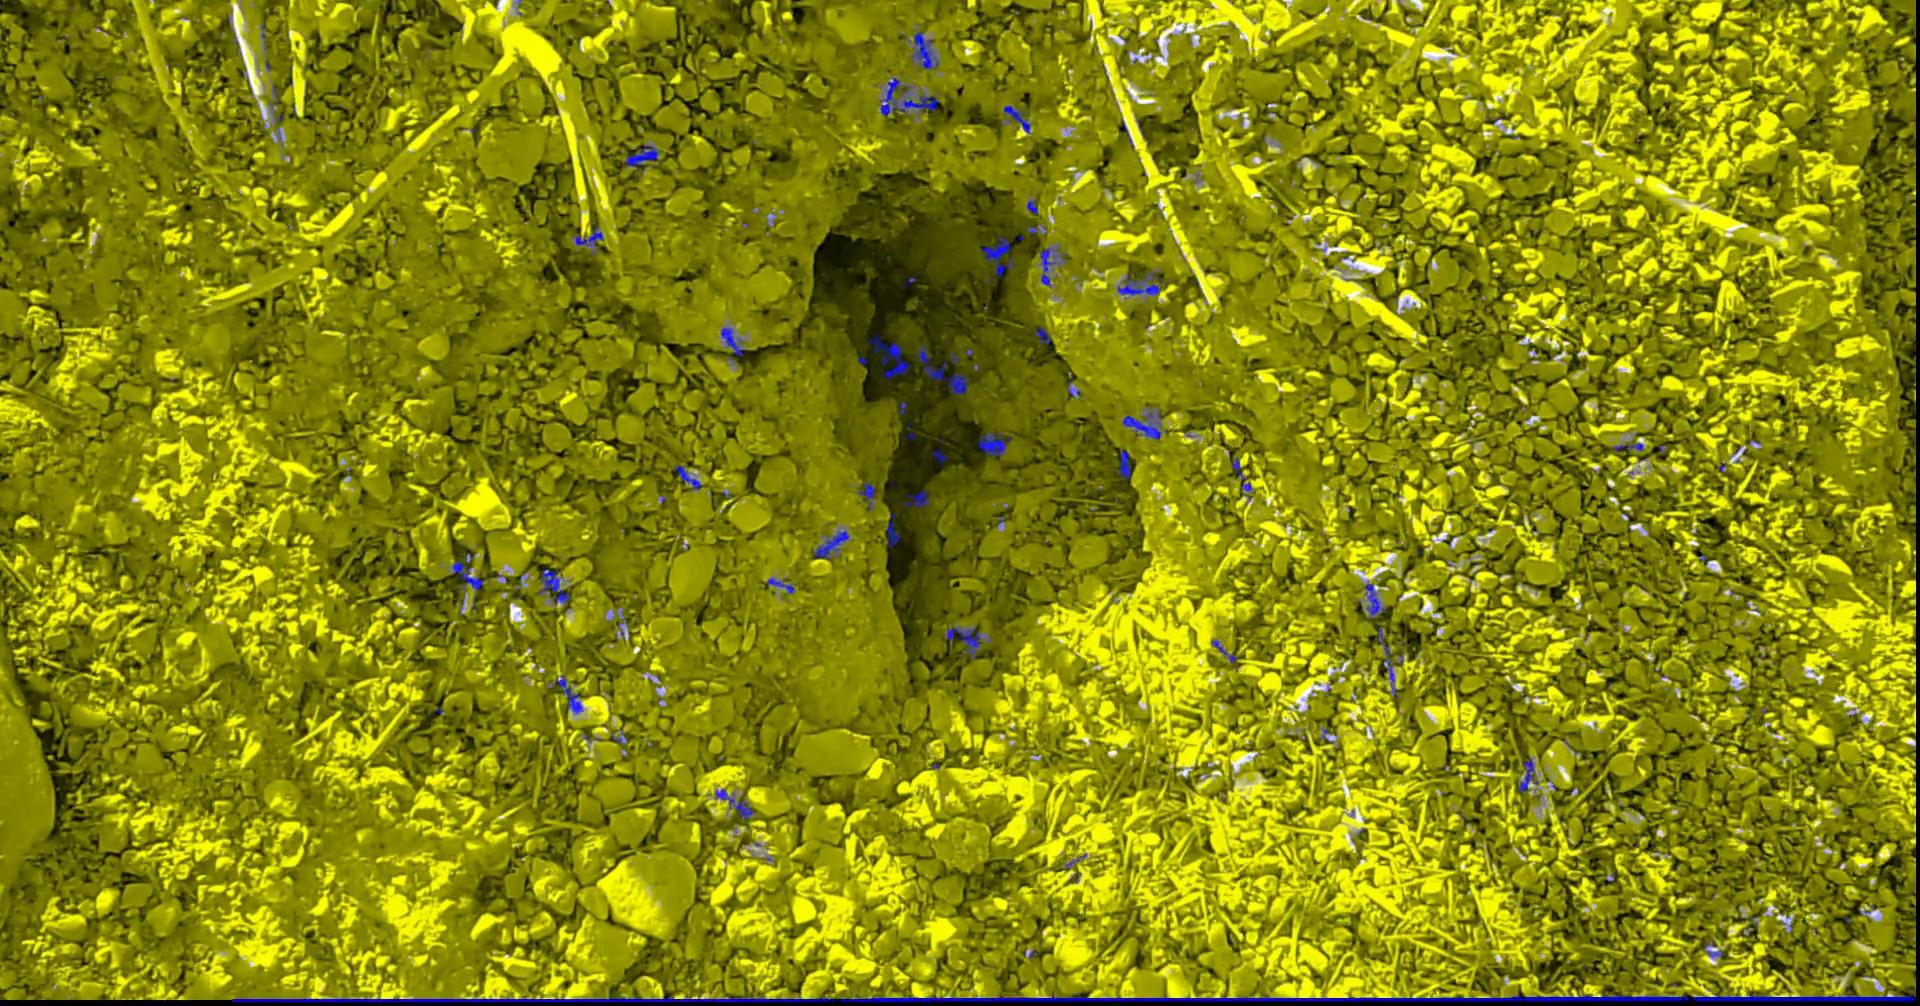ant: (913, 344, 968, 394), (879, 77, 938, 116), (869, 333, 910, 379), (946, 622, 990, 659), (451, 553, 485, 598), (1123, 406, 1167, 439), (1377, 625, 1396, 695), (982, 236, 1013, 277), (714, 788, 754, 819), (1117, 271, 1163, 298), (549, 674, 582, 713), (537, 568, 569, 605), (908, 30, 938, 69), (811, 530, 848, 560), (621, 144, 659, 171), (1039, 246, 1065, 286), (1361, 580, 1385, 619), (1230, 457, 1251, 500), (720, 326, 744, 362), (977, 431, 1010, 456), (1003, 105, 1030, 133), (673, 464, 701, 490), (1517, 757, 1538, 793), (1112, 448, 1135, 479), (571, 225, 603, 246), (1211, 639, 1236, 663), (857, 481, 875, 511), (886, 512, 900, 547), (903, 489, 930, 507), (766, 577, 794, 593), (610, 728, 627, 749), (1034, 326, 1051, 347), (1704, 940, 1722, 956), (1611, 442, 1643, 451), (1067, 379, 1079, 398), (931, 448, 946, 464), (1026, 199, 1037, 213)
